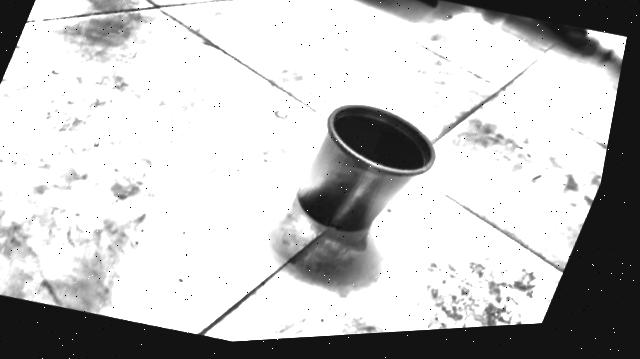pot: (296, 104, 434, 230)
